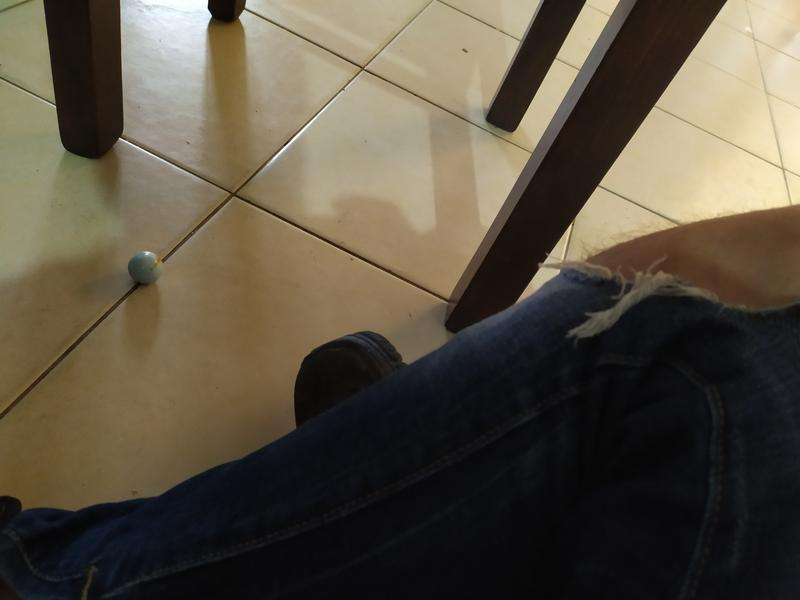Warning: (126, 248, 165, 287)
